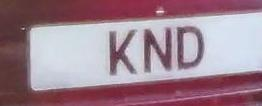D: (175, 20, 209, 75)
K: (104, 22, 140, 82)
N: (142, 22, 175, 77)
